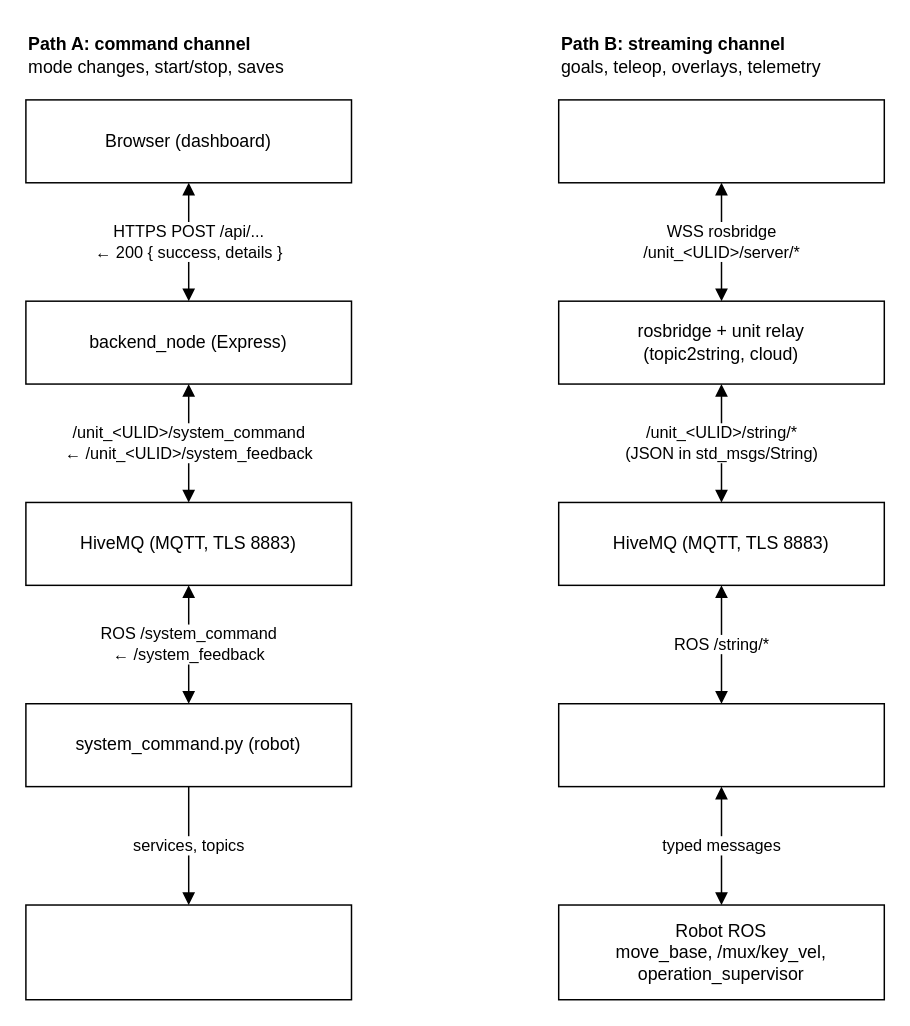
The diagram is 910 pixels wide and 1026 high, and some of its shapes have lost their labels. Here are the shapes that lost their labels. From the top down, the centre of each, then its label:
At (720,140): "Browser (roslibjs)".
At (720,744): "topic2string (robot)".
At (188,952): "Robot ROS /switch_mode, map_saver, coverage, e-stop".
